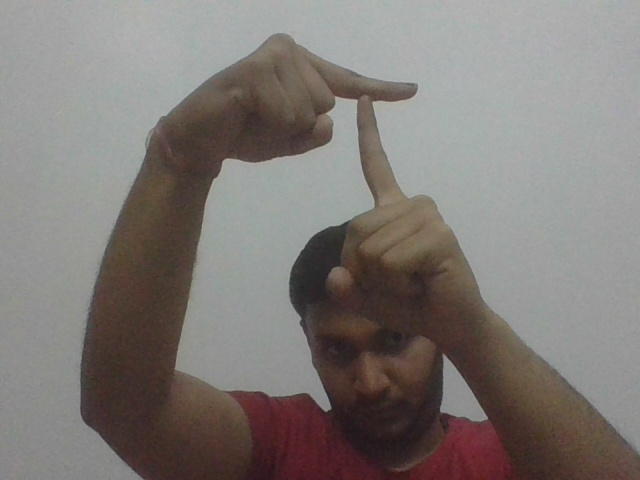T: (337, 59, 438, 195)
